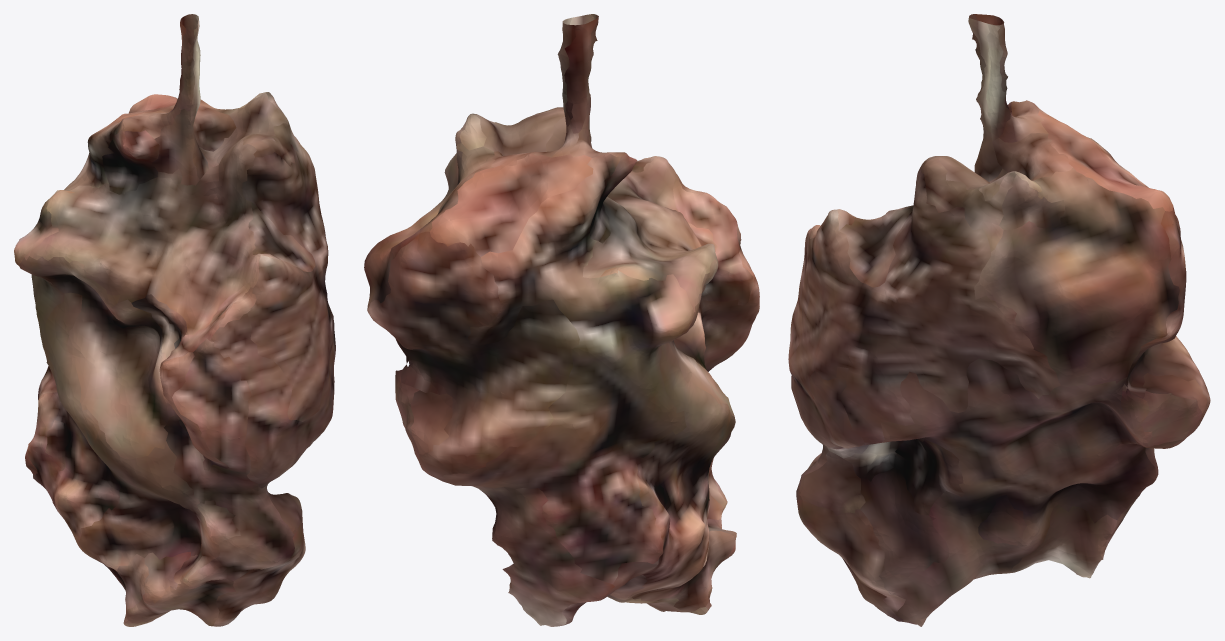
Rendered from porc2.glb.
3 views of the same model, side by side, from view 1: azimuth 30°, elevation 25°; view 2: azimuth 150°, elevation 25°; view 3: azimuth 270°, elevation 25° (orthographic). The views are drawn at different scales.
Parts seen in each view (by area): view 1: Object_2; view 2: Object_2; view 3: Object_2.
Part boxes in pixels (box(x1,y1,x2,y2)): Object_2: box(14, 14, 335, 626); Object_2: box(364, 14, 759, 626); Object_2: box(788, 14, 1210, 626).
Size of the model in its own units: 0.0452 by 0.0873 by 0.0563.
Materials: 1 (1 with a texture image).
